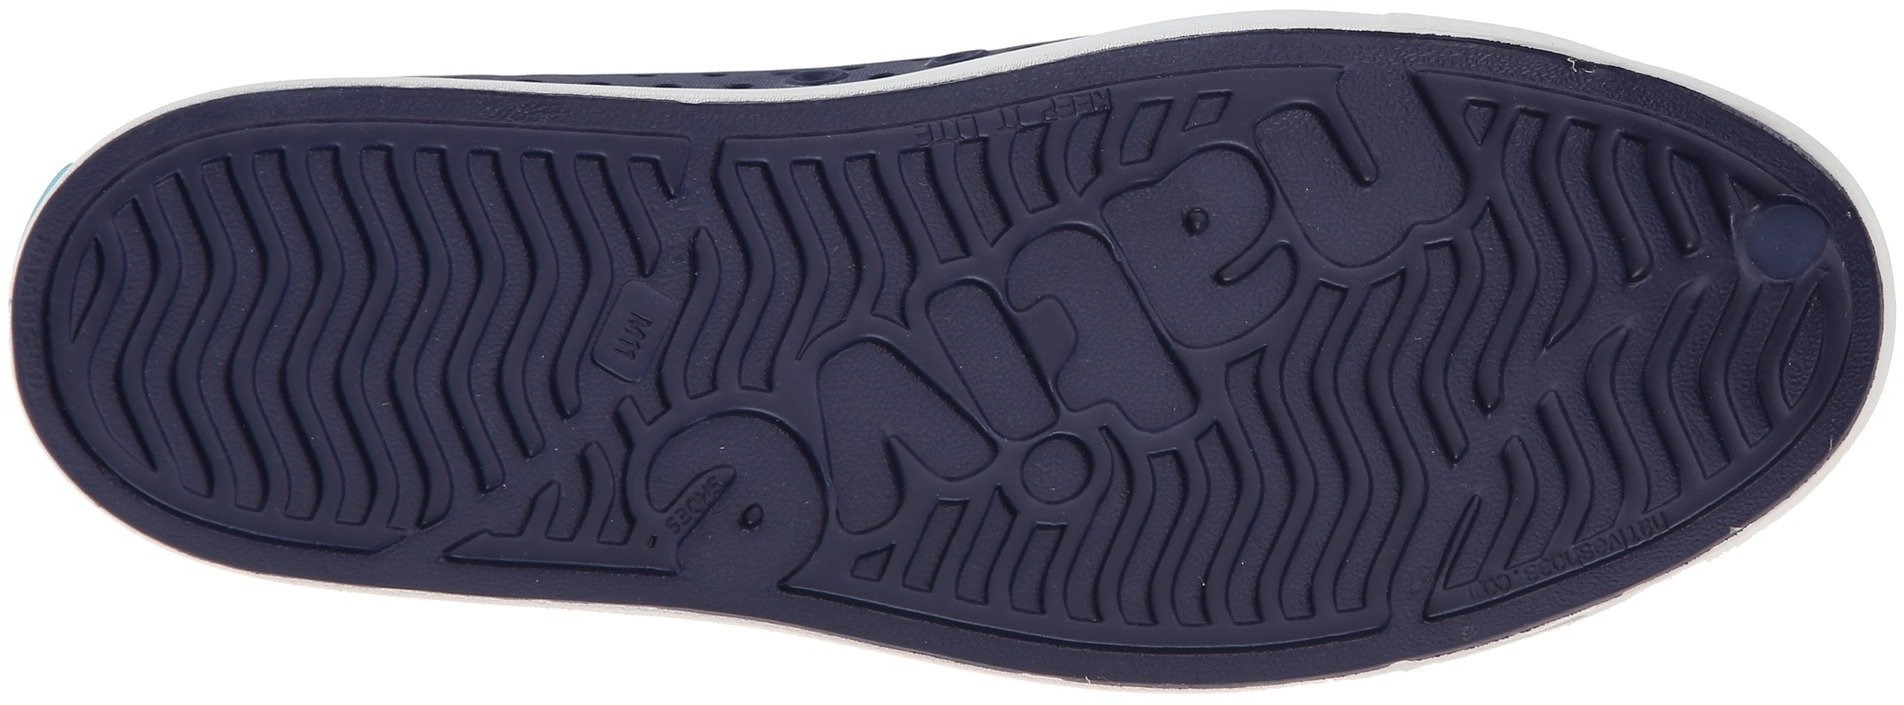chevron: (295, 165, 529, 393), (1429, 284, 1640, 511), (90, 229, 278, 426), (1200, 427, 1375, 603), (743, 150, 916, 299), (1659, 303, 1784, 434)
text: (833, 312, 1018, 498), (1065, 199, 1224, 379), (1234, 102, 1400, 266), (645, 419, 814, 569), (613, 300, 664, 359)
